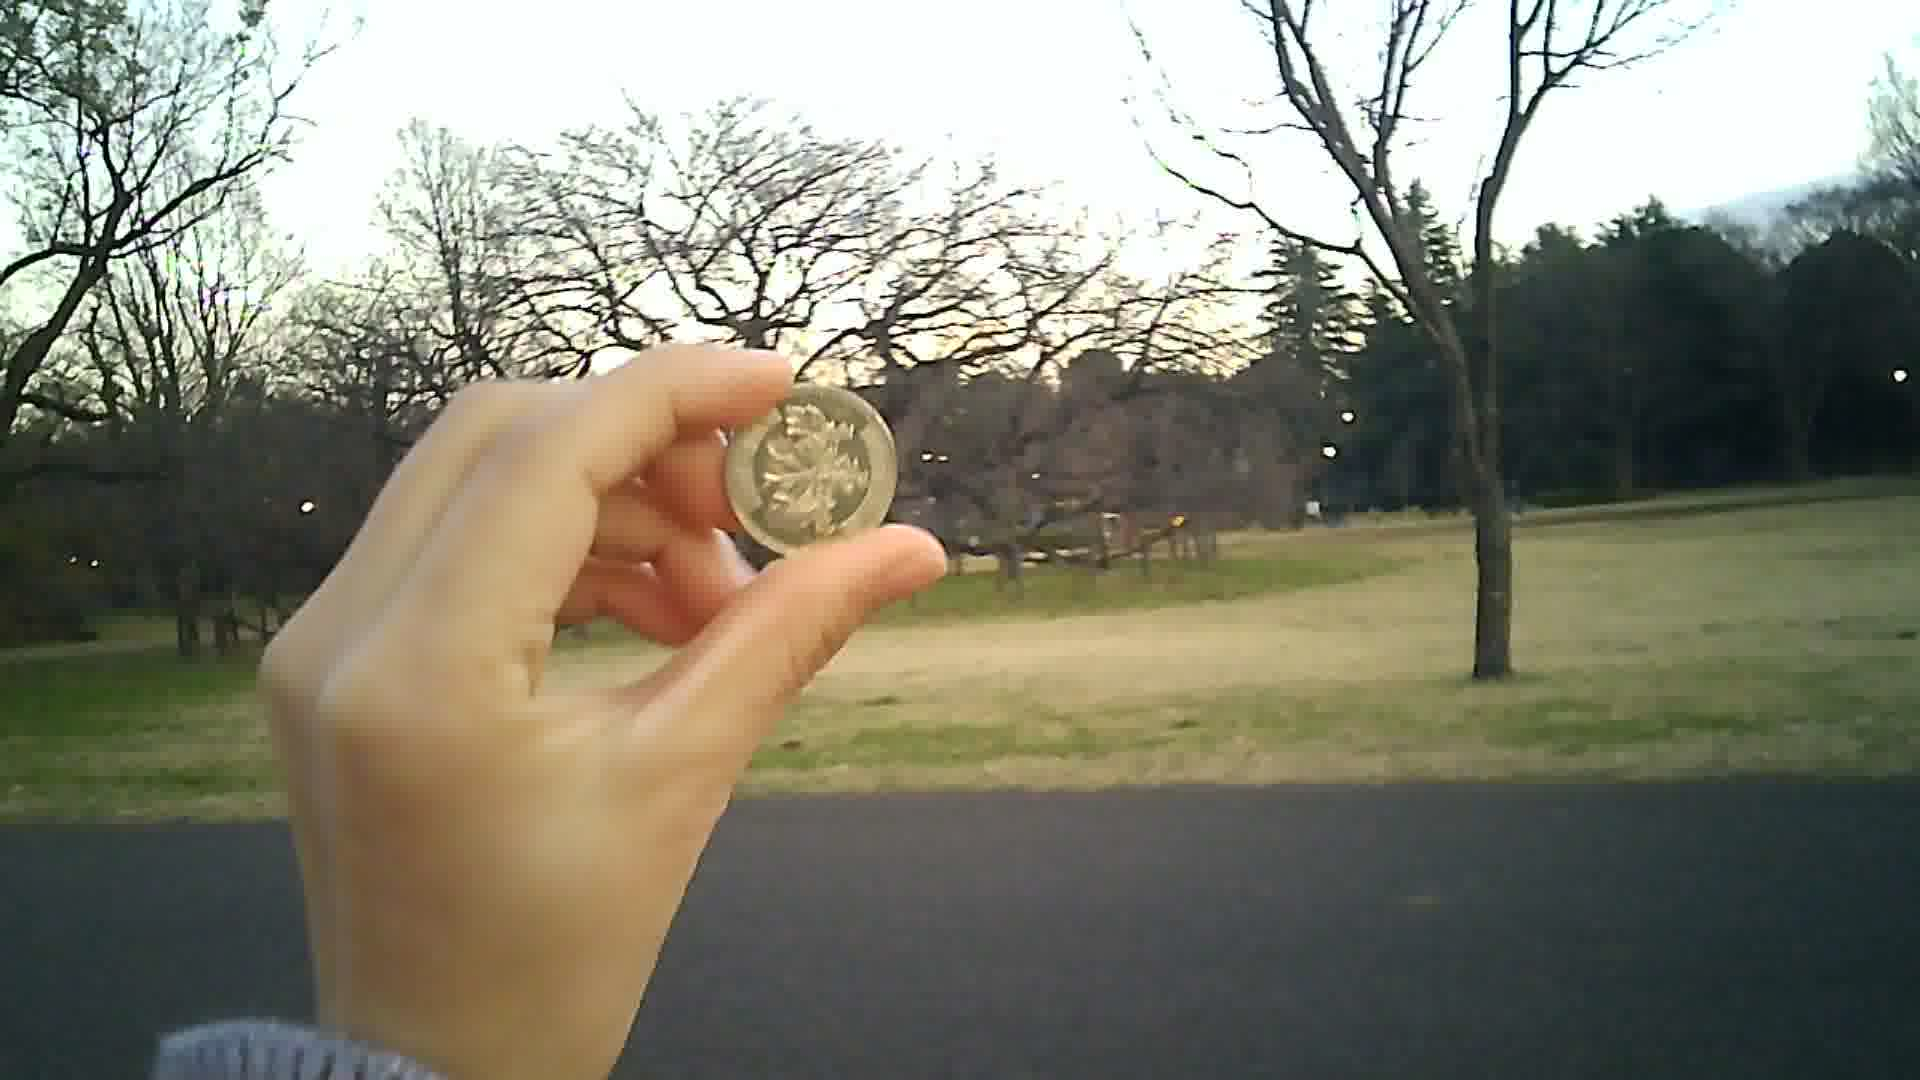500 Yen: (716, 372, 903, 568)
